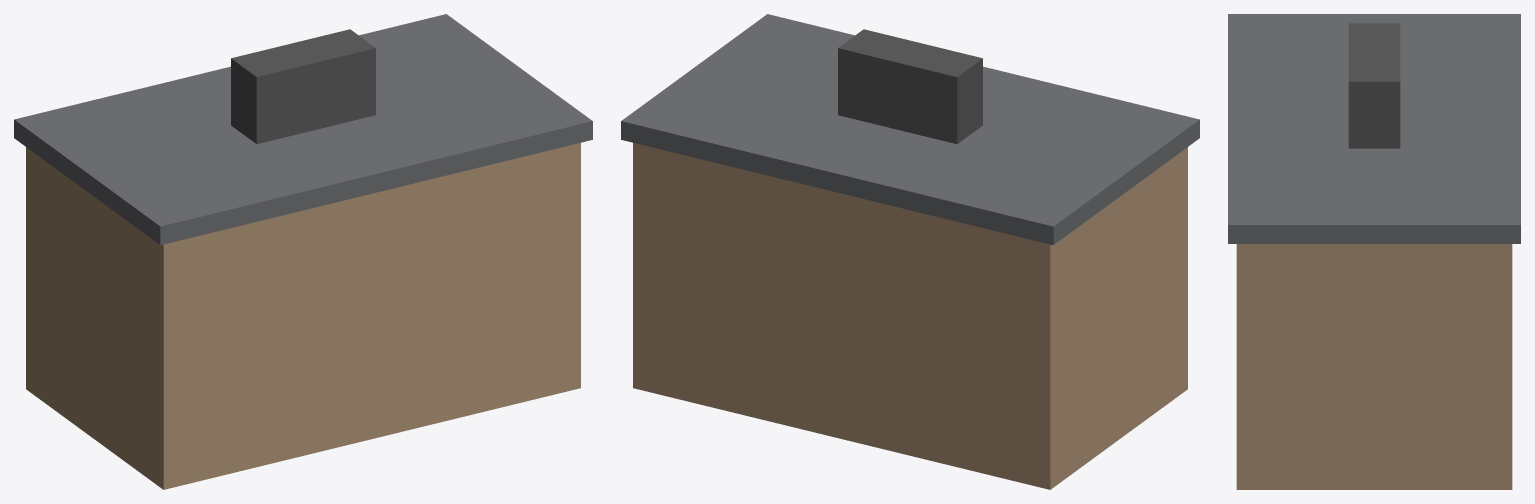
File: deploy_sewing.glb
3 renders of one model, left to right at view 1: azimuth 30°, elevation 25°; view 2: azimuth 150°, elevation 25°; view 3: azimuth 270°, elevation 25°, orthographic.
Visible parts, largest first — view 1: deploy_sewing; view 2: deploy_sewing; view 3: deploy_sewing.
Boxes of the visible parts, x1=… form: deploy_sewing: x1=14, y1=14, x2=592, y2=489; deploy_sewing: x1=621, y1=14, x2=1199, y2=489; deploy_sewing: x1=1228, y1=14, x2=1520, y2=489.
Bounding box in the file's own units: 1.45 × 1.08 × 0.85.
